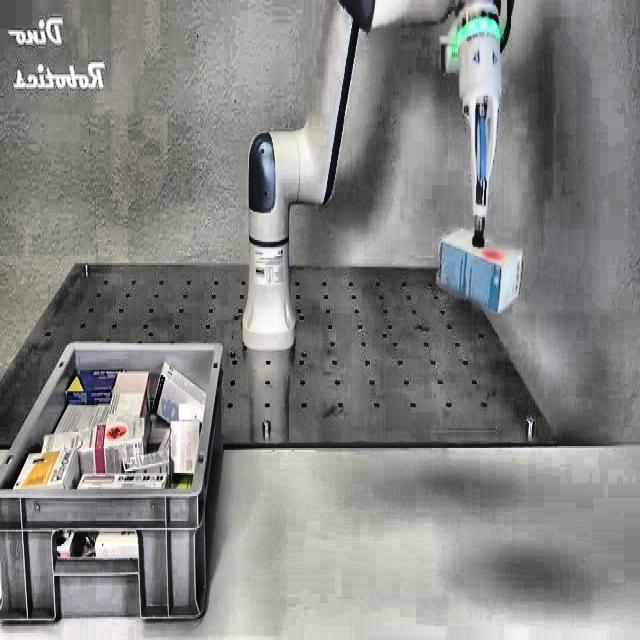robot: (241, 0, 523, 352)
